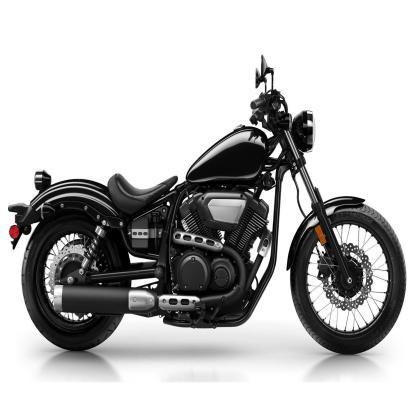Motorcycle: (7, 45, 416, 360)
